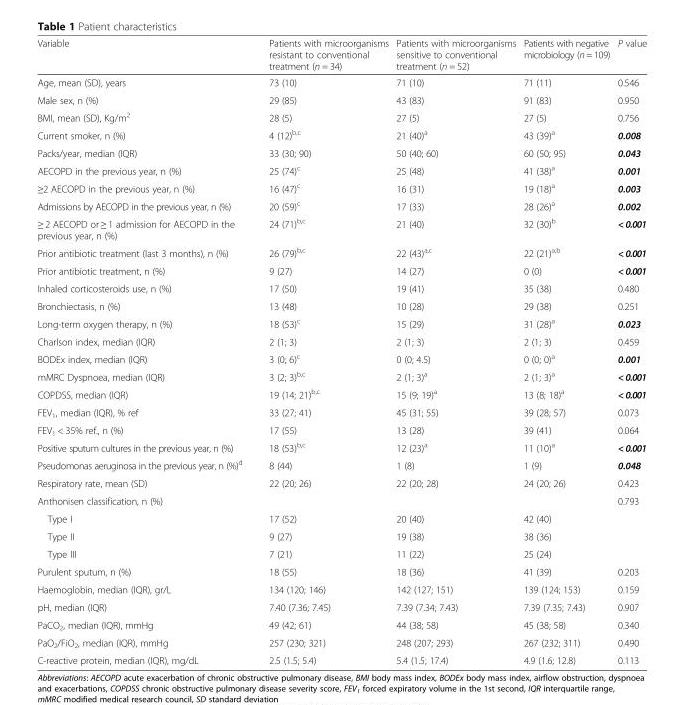table: (36, 37, 646, 665)
table column: (36, 37, 254, 665), (254, 37, 391, 665), (391, 37, 519, 665), (519, 37, 613, 665), (613, 37, 646, 665)
table column header: (36, 37, 646, 73)
table row: (36, 37, 646, 73), (36, 214, 646, 243), (36, 125, 646, 144), (36, 384, 646, 403), (36, 455, 646, 474), (36, 73, 646, 91), (36, 107, 646, 125), (36, 178, 646, 196), (36, 196, 646, 214), (36, 243, 646, 261), (36, 261, 646, 279), (36, 279, 646, 297), (36, 314, 646, 332), (36, 349, 646, 367), (36, 403, 646, 421), (36, 491, 646, 509), (36, 509, 646, 527), (36, 544, 646, 562), (36, 562, 646, 580), (36, 580, 646, 598), (36, 615, 646, 633), (36, 633, 646, 651), (36, 144, 646, 161), (36, 161, 646, 178), (36, 297, 646, 314), (36, 332, 646, 349), (36, 367, 646, 384), (36, 421, 646, 438), (36, 438, 646, 455), (36, 474, 646, 491), (36, 527, 646, 544), (36, 598, 646, 615), (36, 91, 646, 107), (36, 651, 646, 665)
